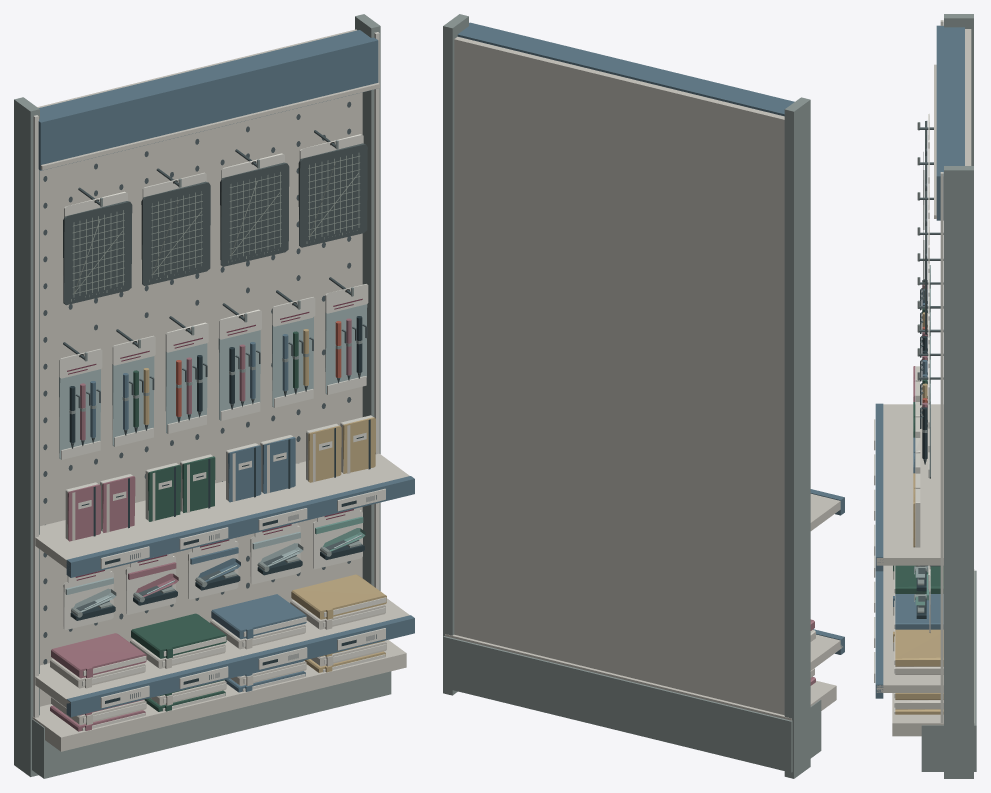
File: stationery.glb
The picture shows the model from 3 angles, left to right: view 1: azimuth 30°, elevation 25°; view 2: azimuth 150°, elevation 25°; view 3: azimuth 270°, elevation 25°; orthographic projection. The views are drawn at different scales.
Parts seen in each view (by area): view 1: DaisoStationeryEndcap; view 2: DaisoStationeryEndcap; view 3: DaisoStationeryEndcap.
Part boxes in pixels (x1,y1,x2,y2): DaisoStationeryEndcap: (14,14,414,778); DaisoStationeryEndcap: (443,14,844,778); DaisoStationeryEndcap: (874,14,976,778).
Bounding box in the file's own units: 1.08 × 1.96 × 0.3008.
